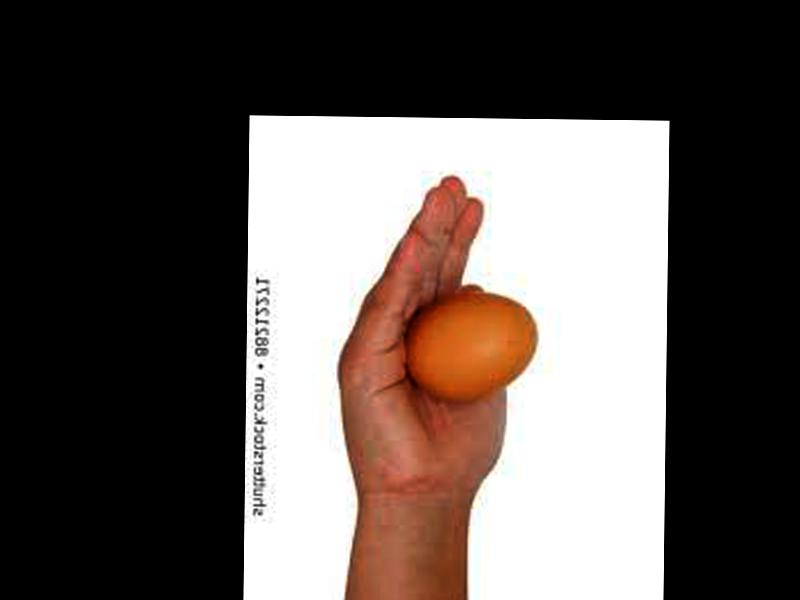Eggs: (402, 292, 538, 401)
